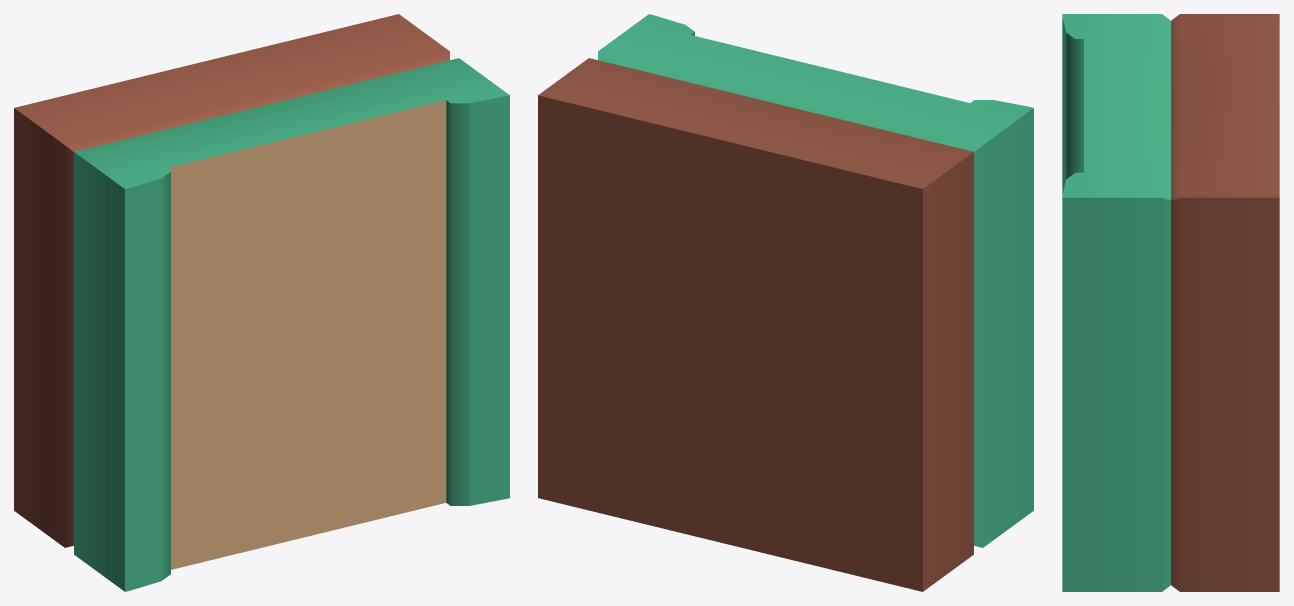
The model's file is Road_A.fbx.
3 renders of one model, left to right at view 1: azimuth 30°, elevation 25°; view 2: azimuth 150°, elevation 25°; view 3: azimuth 270°, elevation 25°, orthographic. The views are drawn at different scales.
Visible parts, largest first — view 1: square_forest_roadB_detail; view 2: square_forest_roadB_detail; view 3: square_forest_roadB_detail.
Boxes of the visible parts, x1,y1,x2,y2 form: square_forest_roadB_detail: (14,14,509,591); square_forest_roadB_detail: (538,14,1033,591); square_forest_roadB_detail: (1062,14,1279,591).
Size of the model in its own units: 2 by 2 by 1.
